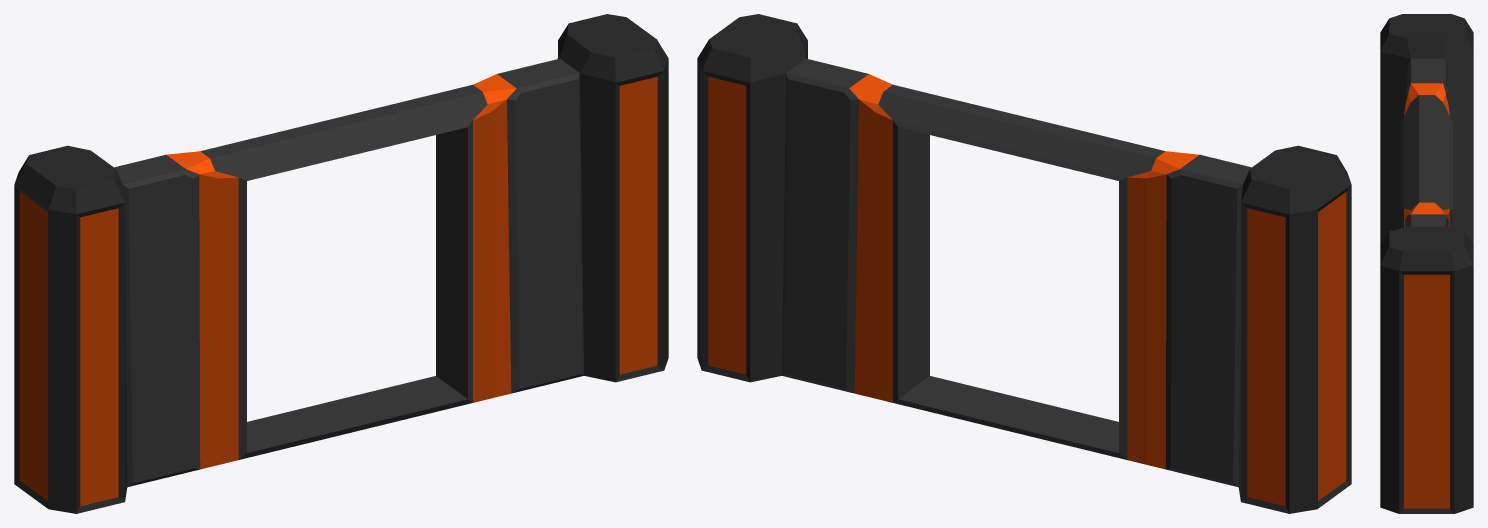
File: Gate01.fbx
3 views of the same model, side by side, from view 1: azimuth 30°, elevation 25°; view 2: azimuth 150°, elevation 25°; view 3: azimuth 270°, elevation 25° (orthographic). The views are drawn at different scales.
Visible parts, largest first — view 1: Gate01; view 2: Gate01; view 3: Gate01.
Part boxes in pixels (x1,y1,x2,y2): Gate01: (14,14,668,513); Gate01: (697,14,1351,513); Gate01: (1380,14,1473,513).
Bounding box in the file's own units: 612 × 301 × 98.78.
